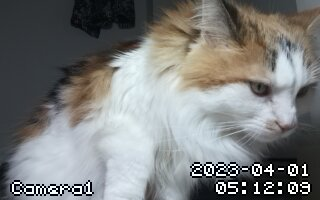clara: (30, 3, 312, 199)
